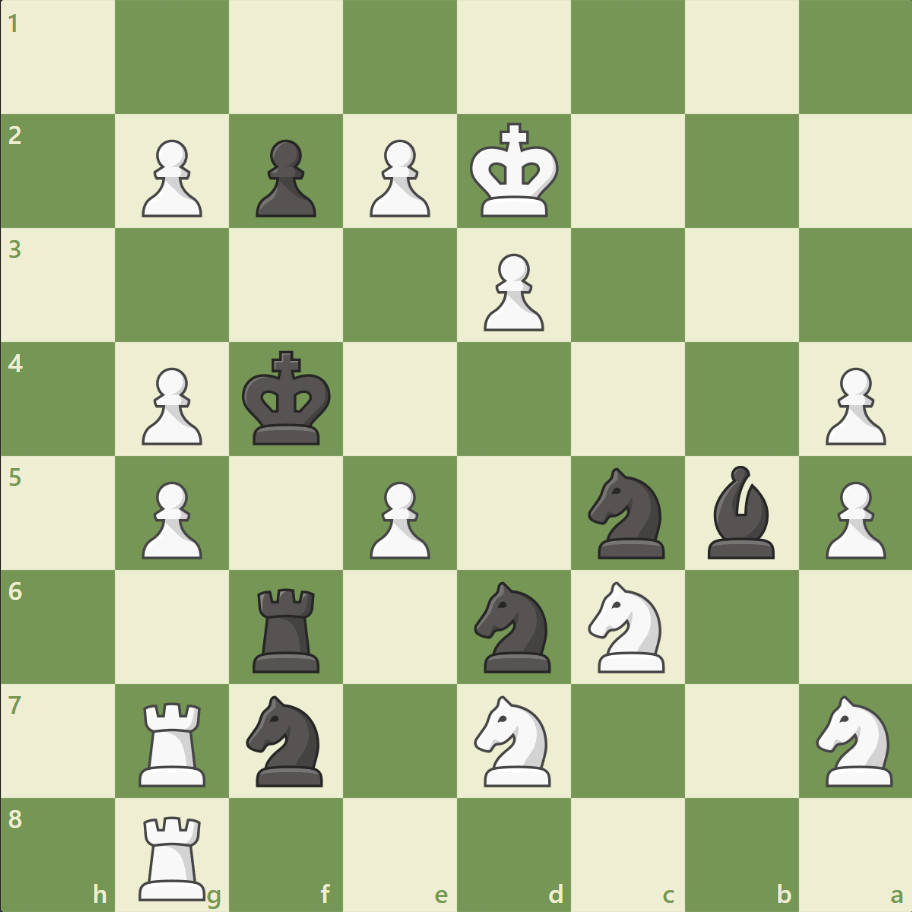K: (465, 117, 565, 225)
N: (806, 688, 903, 791), (465, 688, 562, 791), (579, 575, 676, 677)
P: (133, 473, 208, 564), (133, 359, 208, 450), (474, 246, 549, 337), (133, 132, 208, 223), (815, 473, 889, 564), (361, 473, 435, 564), (815, 359, 889, 450), (361, 132, 435, 223)
R: (133, 806, 215, 904), (133, 693, 215, 790)
b: (698, 460, 782, 563)
k: (238, 344, 338, 452)
n: (238, 688, 335, 791), (579, 461, 676, 564), (465, 575, 562, 677)
p: (247, 132, 322, 223)
r: (246, 579, 329, 676)
